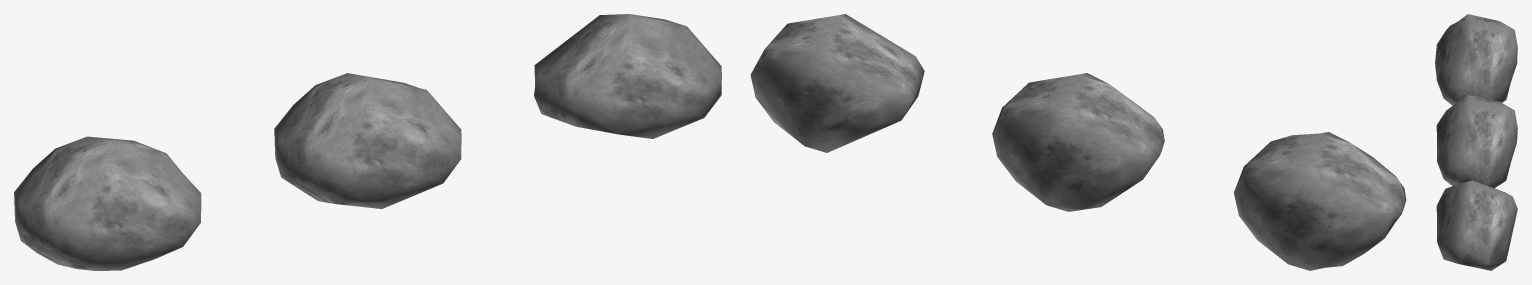
The model's file is asteroid_1_swap_01.dae.
3 views of the same model, side by side, from view 1: azimuth 30°, elevation 25°; view 2: azimuth 150°, elevation 25°; view 3: azimuth 270°, elevation 25° (orthographic). The views are drawn at different scales.
Visible parts, largest first — view 1: MULT[asteroid_01]_LOD[0], MULT[asteroid_01]_LOD[1], MULT[asteroid_01]_LOD[2]; view 2: MULT[asteroid_01]_LOD[0], MULT[asteroid_01]_LOD[1], MULT[asteroid_01]_LOD[2]; view 3: MULT[asteroid_01]_LOD[1], MULT[asteroid_01]_LOD[0], MULT[asteroid_01]_LOD[2].
Boxes of the visible parts, x1,y1,x2,y2 form: MULT[asteroid_01]_LOD[0]: (14, 136, 201, 270); MULT[asteroid_01]_LOD[1]: (274, 73, 461, 208); MULT[asteroid_01]_LOD[2]: (534, 14, 721, 138); MULT[asteroid_01]_LOD[0]: (1234, 132, 1406, 270); MULT[asteroid_01]_LOD[1]: (992, 73, 1164, 211); MULT[asteroid_01]_LOD[2]: (750, 14, 924, 152); MULT[asteroid_01]_LOD[1]: (1436, 94, 1517, 188); MULT[asteroid_01]_LOD[0]: (1435, 14, 1517, 105); MULT[asteroid_01]_LOD[2]: (1436, 180, 1517, 270).
Size of the model in its own units: 83.25 by 14.96 by 13.64.
1 material, 1 textured.
